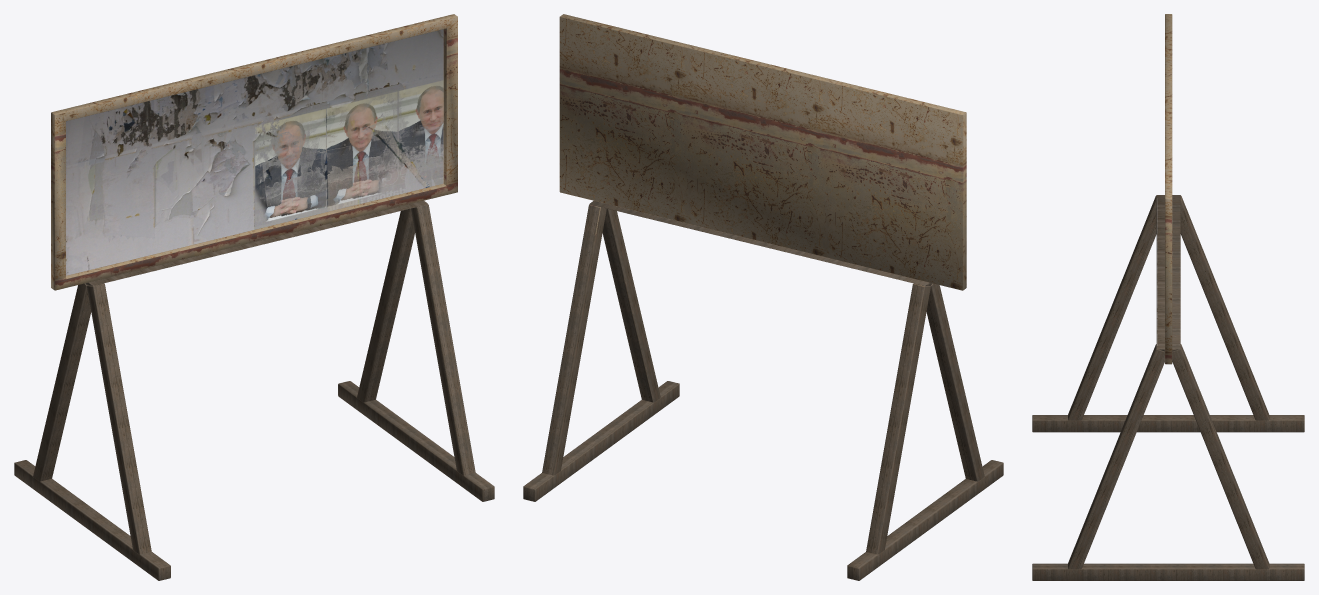
File: billboard2.fbx
The picture shows the model from 3 angles, left to right: view 1: azimuth 30°, elevation 25°; view 2: azimuth 150°, elevation 25°; view 3: azimuth 270°, elevation 25°; orthographic projection. The views are drawn at different scales.
Visible parts, largest first — view 1: billboard2; view 2: billboard2; view 3: billboard2.
Part boxes in pixels (x1,y1,x2,y2): billboard2: (14,14,494,580); billboard2: (523,14,1003,580); billboard2: (1032,14,1304,580).
Bounding box in the file's own units: 960 × 962 × 597.
